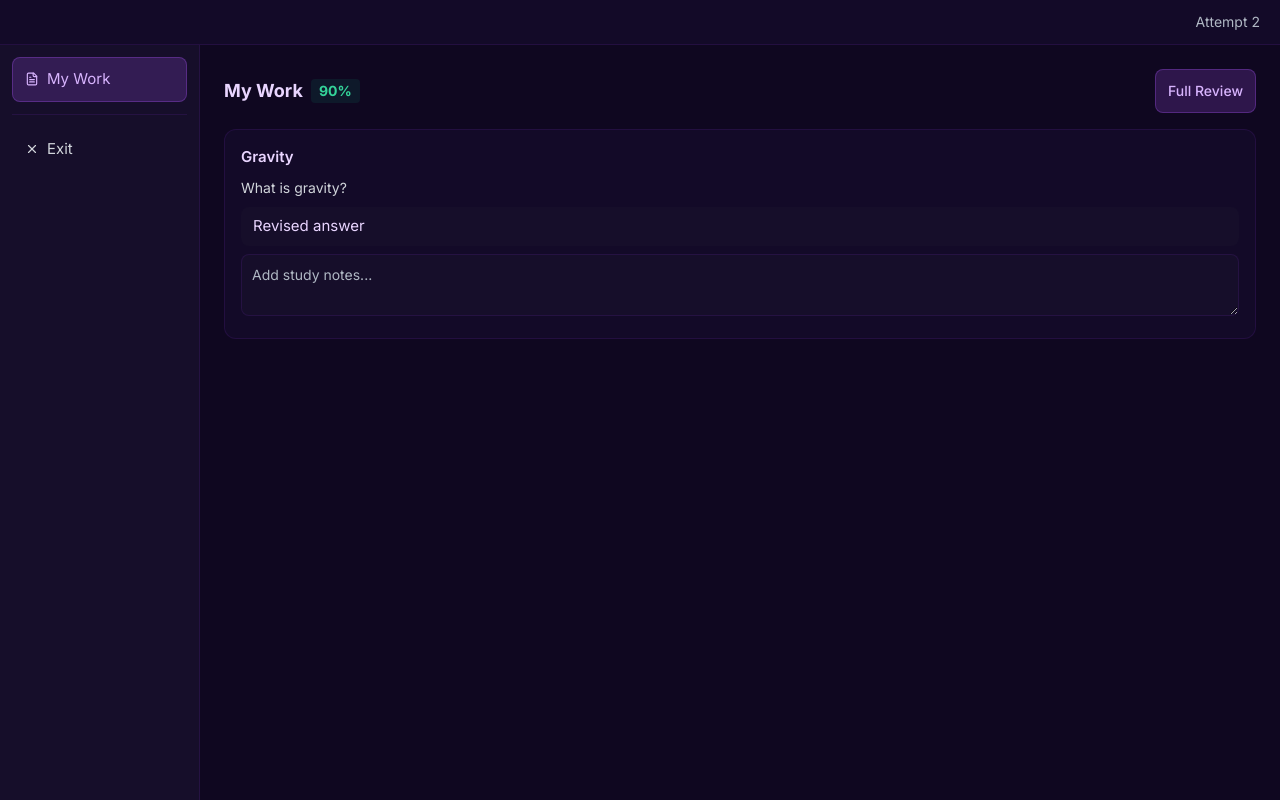
it: MyWorkPanel attempt selector › shows the percentage for an ungraded attempt instead of Pending Review
The width and height of the screenshot is (1280, 800).
Click the button "My Work".
click(100, 79)  # box top-left (12, 57), bottom-right (187, 102)
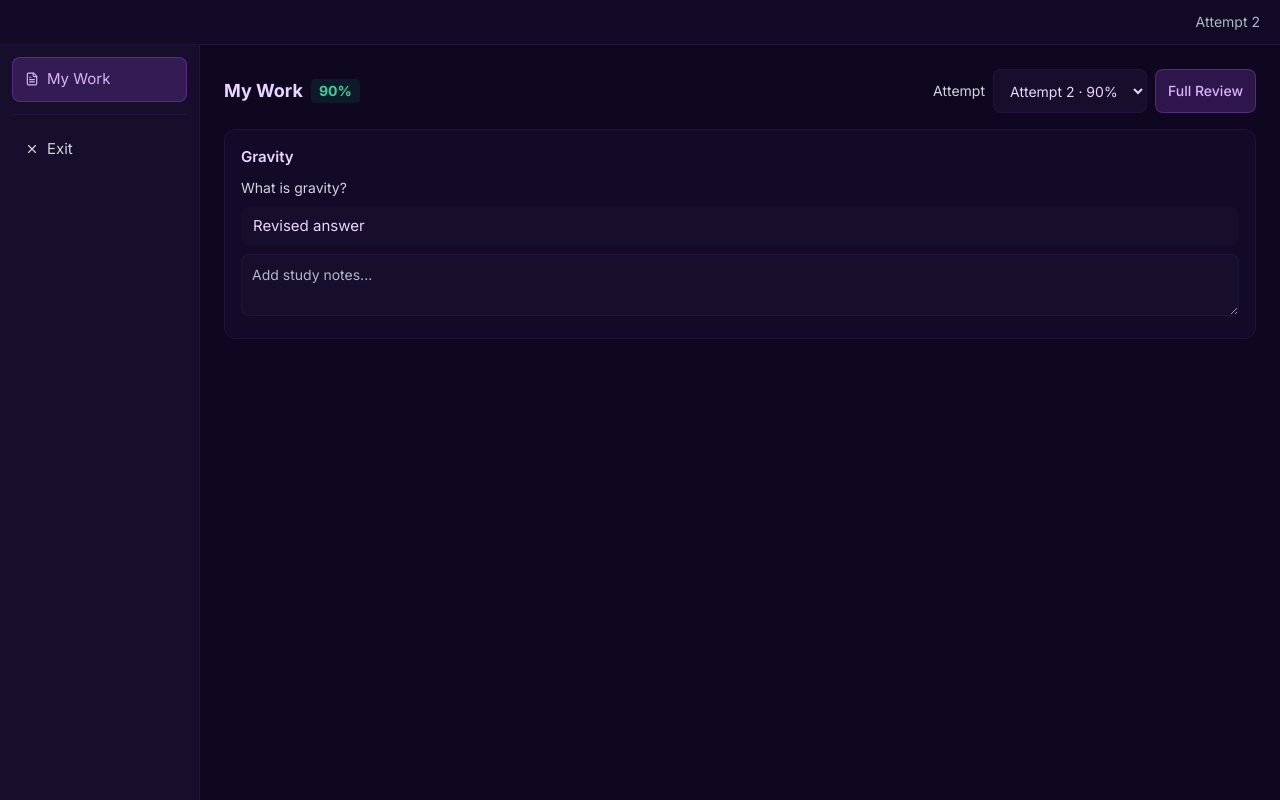
Expected: the text with test id "mywork-score-pill" reads "90%", top-left (311, 79), bottom-right (360, 103)
Select "Attempt 1 · 80%" in the dropdown at (1070, 91), box top-left (993, 69), bottom-right (1147, 113)
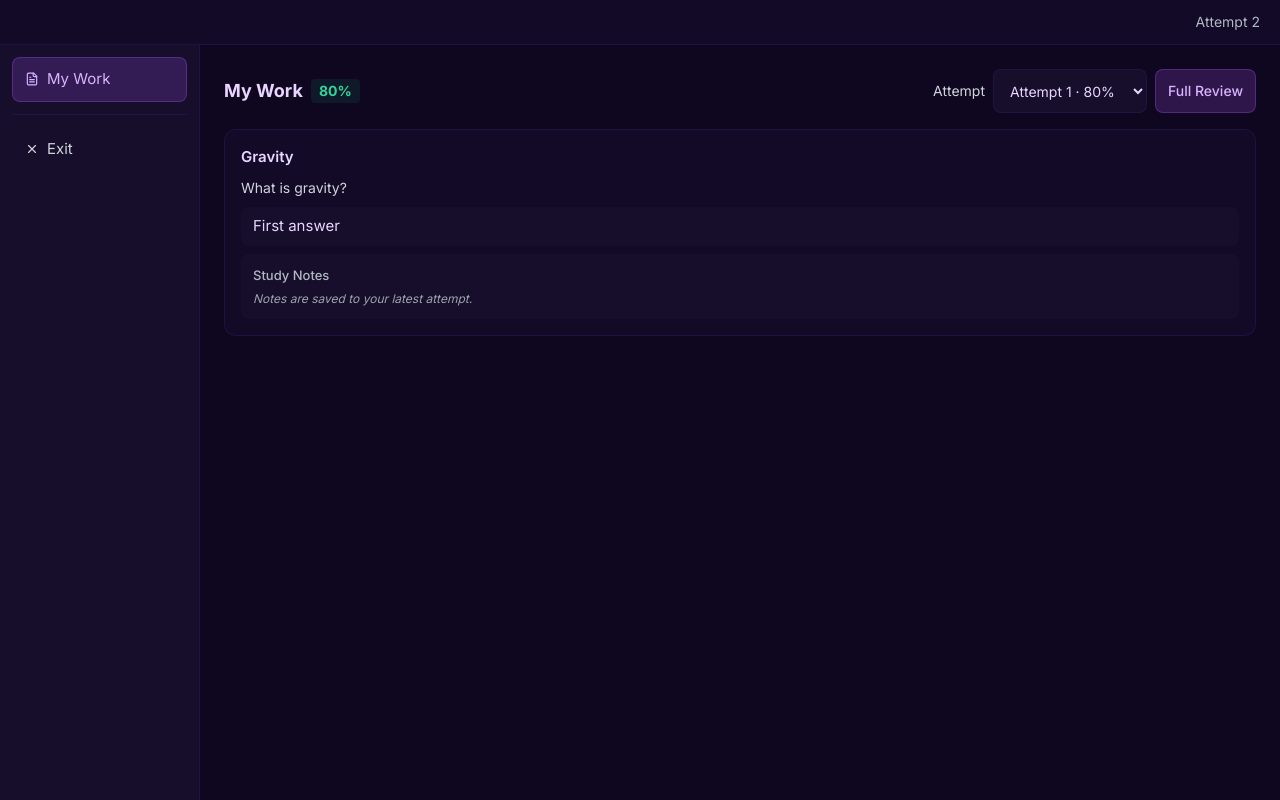
Now the text with test id "mywork-score-pill" reads "80%", box top-left (311, 79), bottom-right (360, 103)
